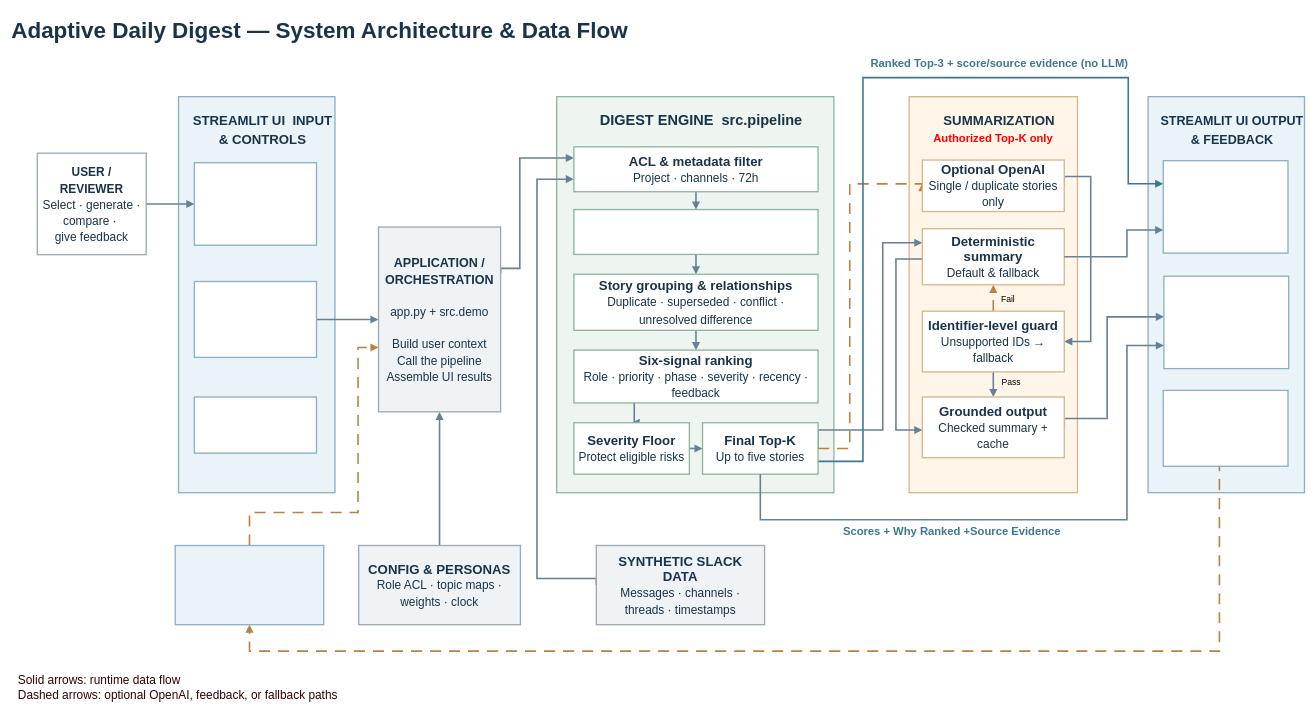
This 1316x713 diagram has some shape labels left out. Each missing label, with the centre of its shape:
Compare View Top-3 Rankings Scores & Short Summaries Source References: point 1225,206
Digest View Personalized Digest Why Ranked Source Evidence: point 1226,322
Fixed as-of 72-hour lookback: point 255,424
Generate Digest Compare Personas: point 255,319
Hybrid retrieval TF-IDF + keywords + identifiers: point 695,232
Persona · Phase Current priorities: point 255,204
Relevance Feedback Relevant / Not Relevant: point 1225,428
SESSION FEEDBACK Persona-specific · memory only: point 249,584
